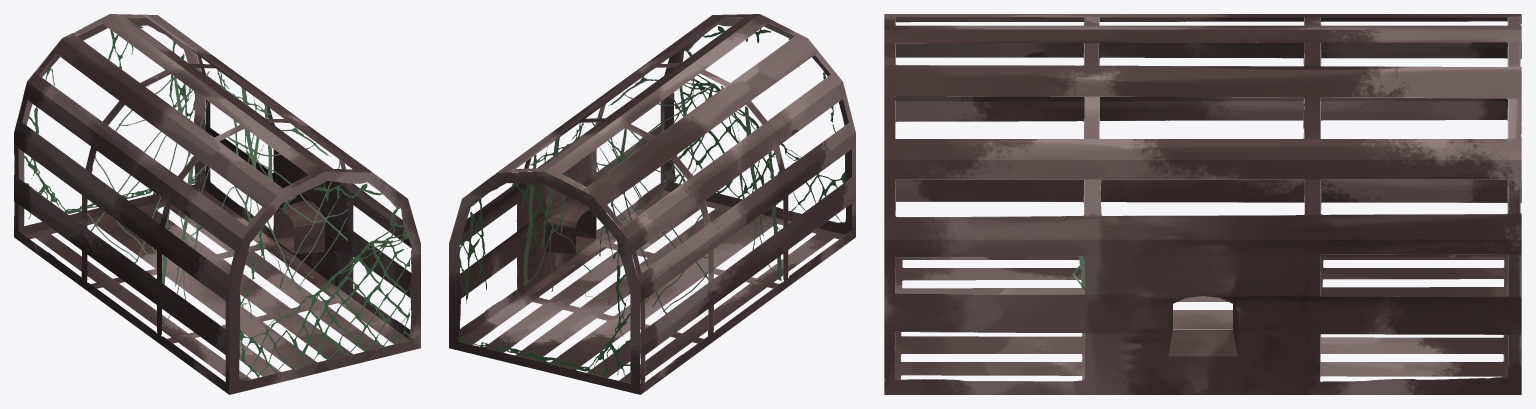
Rendered from Crab_trap01.fbx.
The picture shows the model from 3 angles, left to right: view 1: azimuth 30°, elevation 25°; view 2: azimuth 150°, elevation 25°; view 3: azimuth 270°, elevation 25°; orthographic projection. The views are drawn at different scales.
Parts seen in each view (by area): view 1: Crab_trap01; view 2: Crab_trap01; view 3: Crab_trap01.
Part boxes in pixels (bbox=[...]): Crab_trap01: bbox=[14, 14, 420, 394]; Crab_trap01: bbox=[449, 14, 855, 394]; Crab_trap01: bbox=[884, 14, 1521, 394].
Size of the model in its own units: 0.5233 by 0.5225 by 1.02.
1 material, 1 textured.
